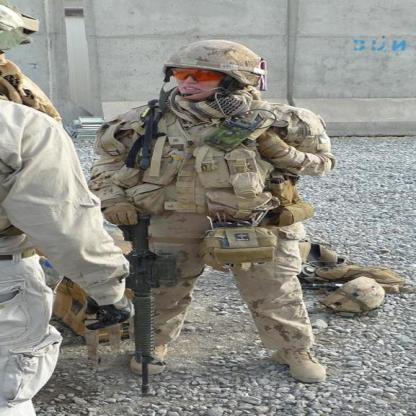Helmet: (159, 39, 263, 110), (313, 274, 391, 316), (0, 0, 38, 51)
